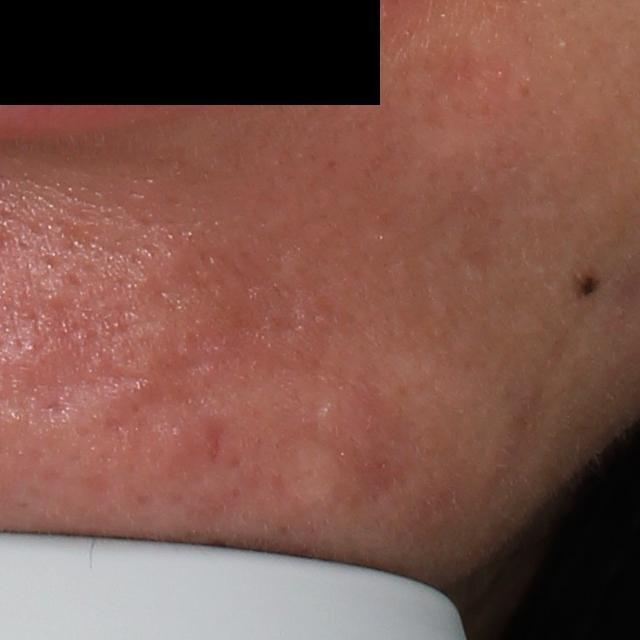nevus: (578, 275, 603, 304)
